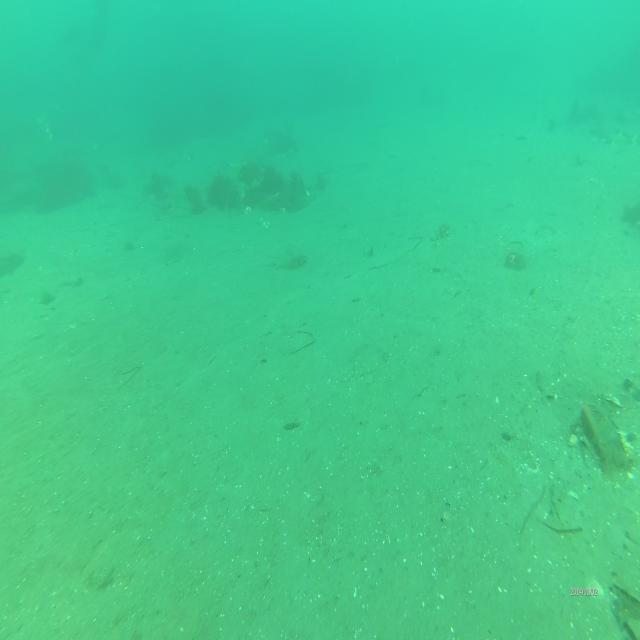holothurian: (429, 218, 454, 248)
scallop: (603, 387, 623, 419)
